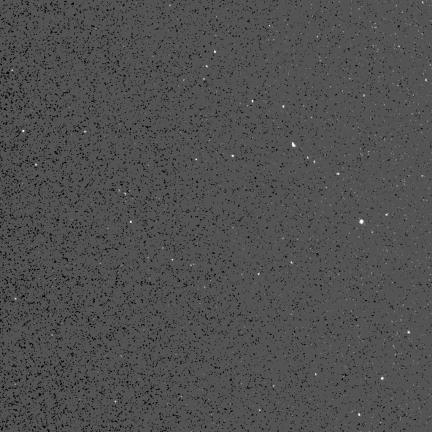blob: (360, 219, 365, 225), (292, 142, 295, 147), (381, 377, 384, 381), (22, 130, 25, 133), (214, 51, 216, 54), (283, 106, 285, 108)
